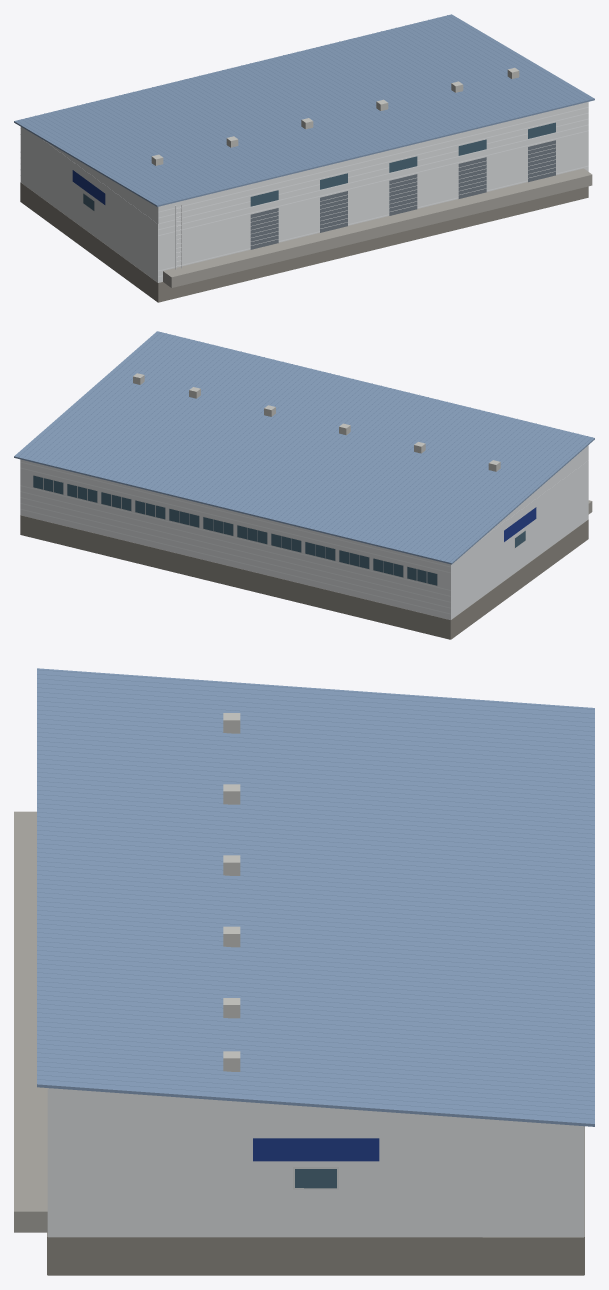
3 renders of one model, top to bottom at view 1: azimuth 30°, elevation 25°; view 2: azimuth 150°, elevation 25°; view 3: azimuth 270°, elevation 25°, orthographic. The views are drawn at different scales.
Parts seen in each view (by area): view 1: w451562716__roof-metal, w451562716__plaster-wall, w451562716__roof-seam, w451562716__dock-wall, w451562716__foundation-wall, w451562716__shutter, w451562716__band-wall, w451562716__glass, w451562716__box-wall, w451562716__sign-blue; view 2: w451562716__roof-metal, w451562716__plaster-wall, w451562716__roof-seam, w451562716__foundation-wall, w451562716__glass, w451562716__band-wall, w451562716__frame, w451562716__box-wall; view 3: w451562716__roof-metal, w451562716__plaster-wall, w451562716__roof-seam, w451562716__foundation-wall, w451562716__dock-wall, w451562716__sign-blue, w451562716__box-wall, w451562716__glass.
Part boxes in pixels (x1,y1,x2,y2): w451562716__roof-metal: (14, 14, 594, 206); w451562716__plaster-wall: (20, 102, 588, 282); w451562716__roof-seam: (17, 15, 590, 204); w451562716__dock-wall: (163, 168, 592, 287); w451562716__foundation-wall: (20, 182, 588, 302); w451562716__shutter: (250, 140, 555, 249); w451562716__band-wall: (20, 107, 588, 276); w451562716__glass: (83, 122, 555, 210); w451562716__box-wall: (151, 67, 519, 165); w451562716__sign-blue: (72, 170, 105, 204); w451562716__roof-metal: (14, 331, 594, 564); w451562716__plaster-wall: (20, 445, 588, 619); w451562716__roof-seam: (19, 332, 592, 561); w451562716__foundation-wall: (20, 515, 588, 639); w451562716__glass: (33, 475, 525, 585); w451562716__band-wall: (20, 461, 450, 614); w451562716__frame: (33, 474, 525, 586); w451562716__box-wall: (133, 373, 500, 471); w451562716__roof-metal: (37, 668, 594, 1126); w451562716__plaster-wall: (47, 1088, 584, 1237); w451562716__roof-seam: (37, 669, 594, 1119); w451562716__foundation-wall: (47, 1126, 584, 1275); w451562716__dock-wall: (14, 811, 47, 1232); w451562716__sign-blue: (253, 1138, 379, 1161); w451562716__box-wall: (223, 713, 240, 1071); w451562716__glass: (295, 1169, 336, 1188).
Bounding box in the file's own units: 46.74 × 10.22 × 27.58.
